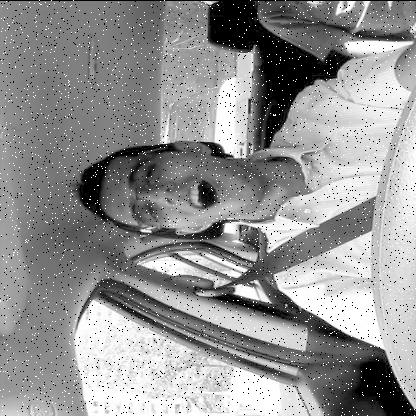seatbelt: (69, 92, 378, 292)
